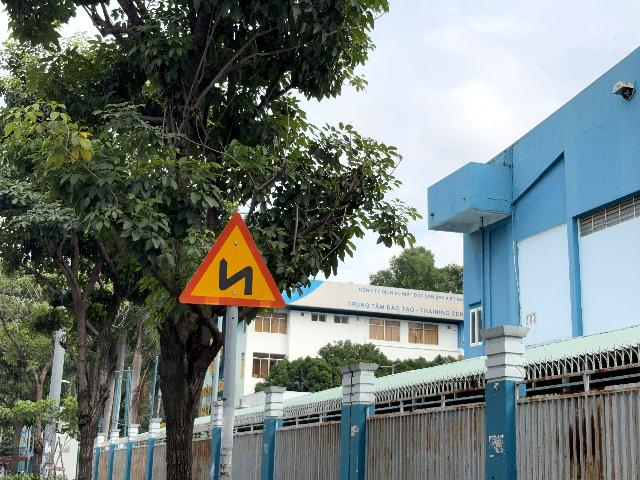nhieu-cho-ngoat-nguy-hiem-lien-tiep: (178, 212, 286, 308)
